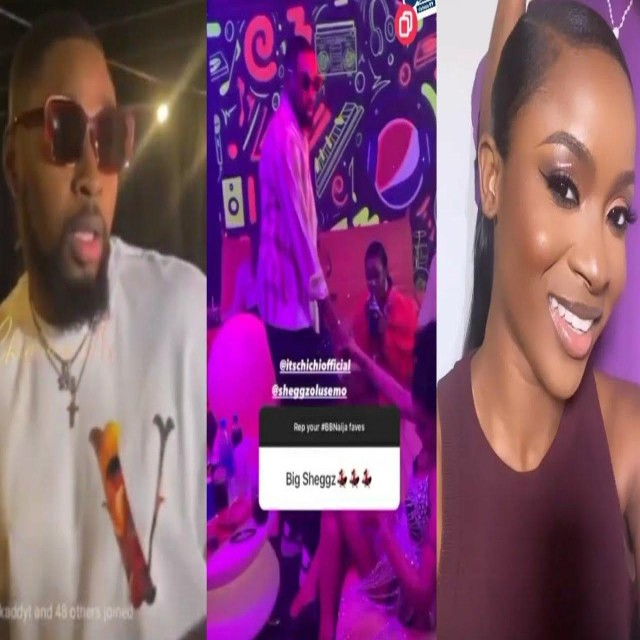pepsi: (370, 114, 430, 213)
